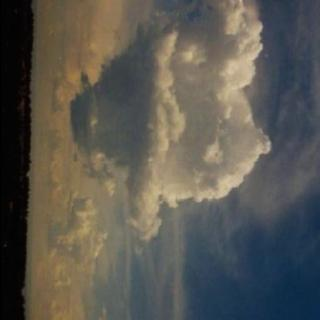Cumulus: (29, 0, 320, 320)
